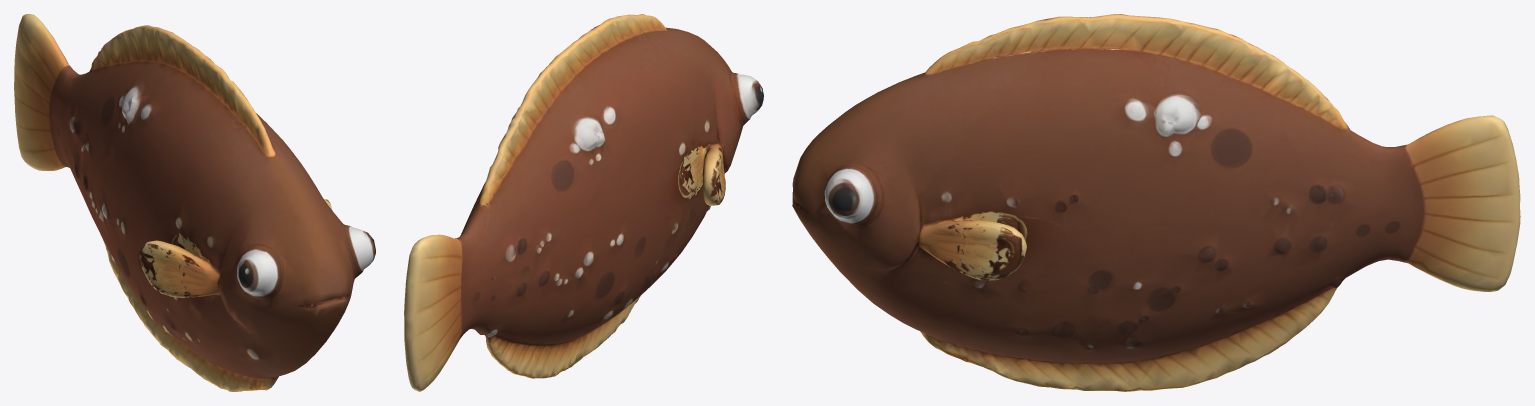
File: Flatfish_Cartoon_1111184953_texture.fbx
The picture shows the model from 3 angles, left to right: view 1: azimuth 30°, elevation 25°; view 2: azimuth 150°, elevation 25°; view 3: azimuth 270°, elevation 25°; orthographic projection. The views are drawn at different scales.
Parts seen in each view (by area): view 1: Mesh1.0; view 2: Mesh1.0; view 3: Mesh1.0.
Boxes of the visible parts, x1,y1,x2,y2 form: Mesh1.0: (14, 14, 375, 391); Mesh1.0: (404, 14, 763, 391); Mesh1.0: (792, 14, 1520, 391).
Bounding box in the file's own units: 66.41 × 110 × 193.
1 material, 1 textured.
